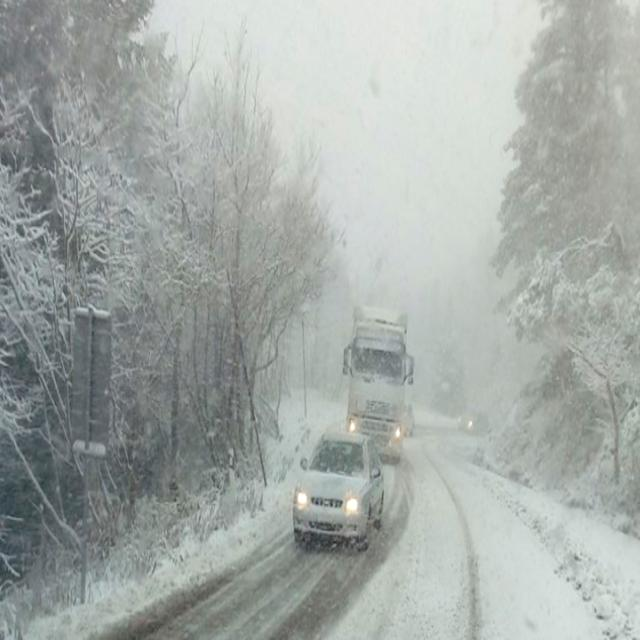bus: (345, 303, 413, 463)
car: (290, 426, 388, 553), (458, 406, 488, 435)
